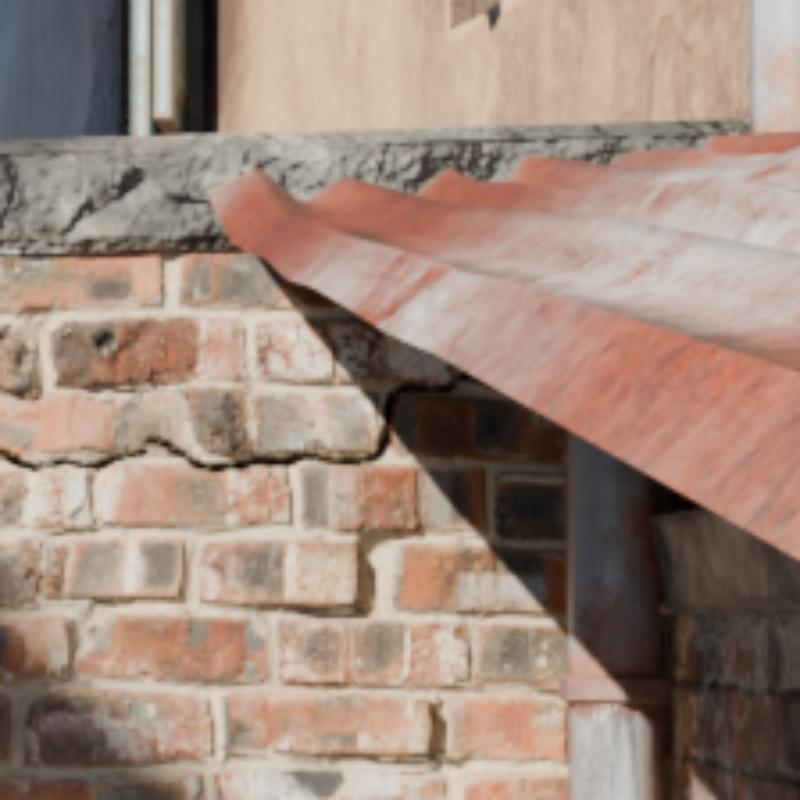pothole: (57, 371, 471, 468)
